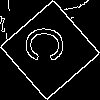C: (25, 25, 74, 64)
